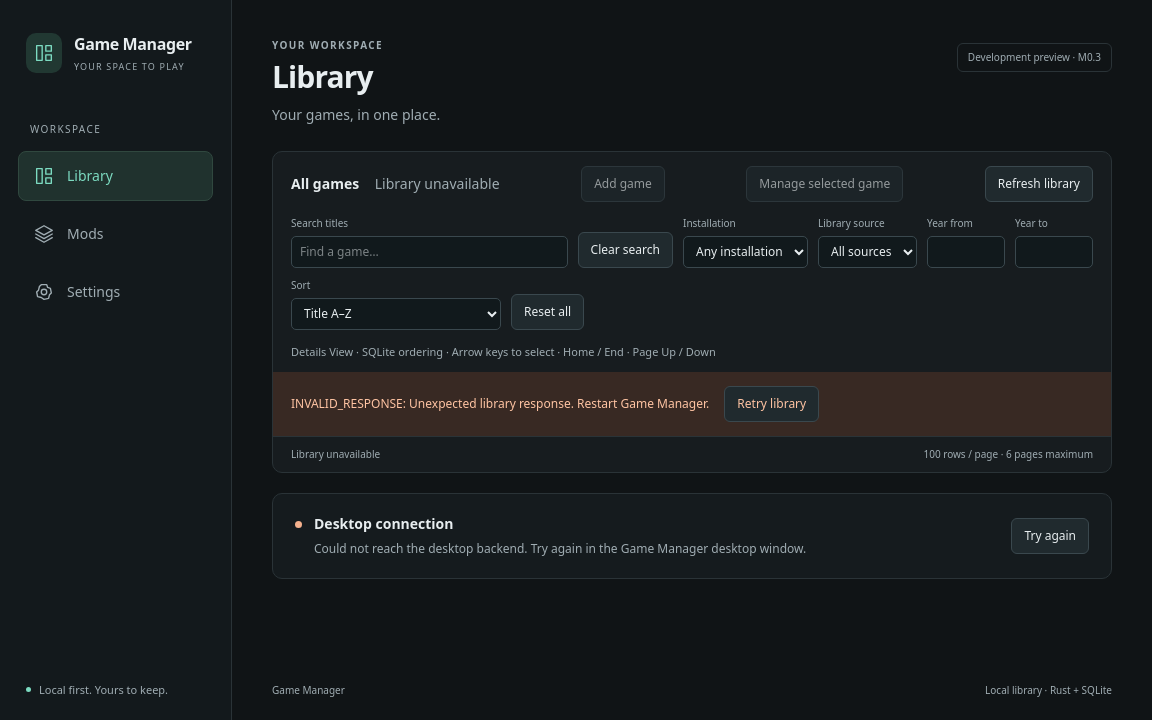
Test: desktop shell › displays an IPC error and recovers when retried
Expected: the text "Could not reach the desktop backend" is shown, x1=314 y1=540 x2=806 y2=557
Click the button "Try again".
click(1050, 536)  # box x1=1011 y1=518 x2=1089 y2=554
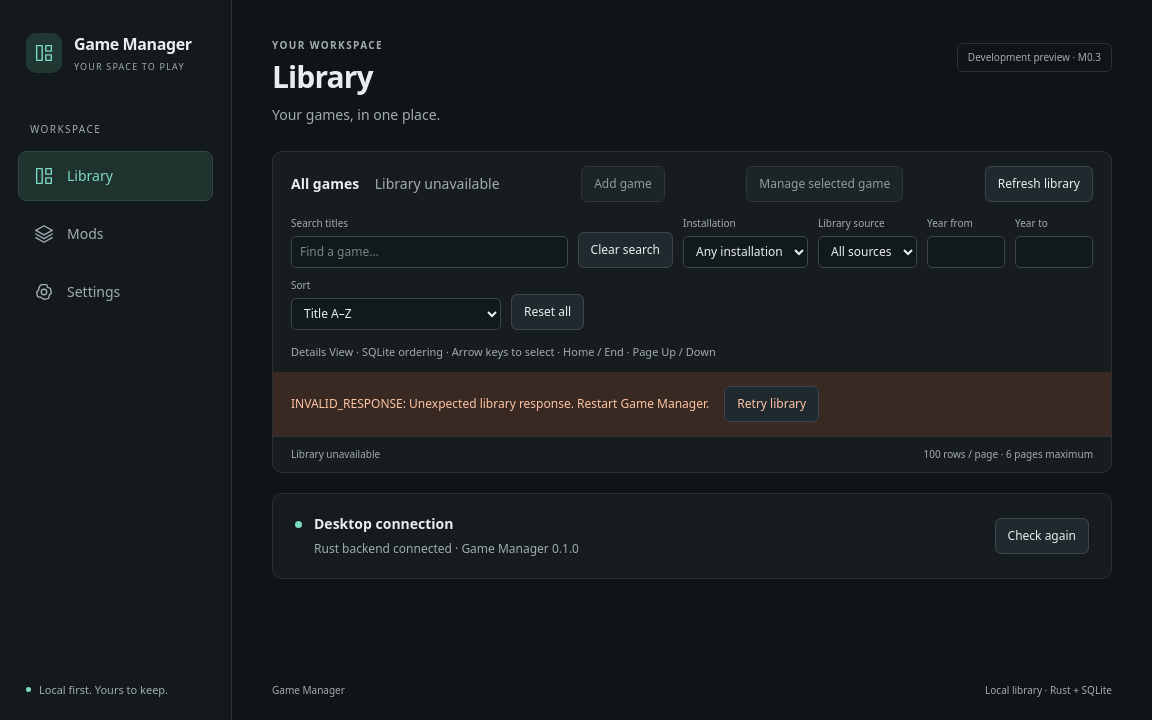
Now the message "Rust backend connected · Game Manager 0.1.0" is shown, box x1=314 y1=539 x2=579 y2=558
